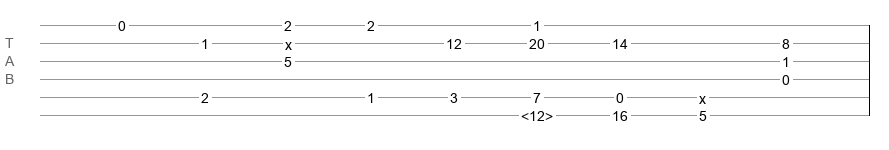0: (118, 18, 126, 28), (616, 90, 624, 100), (782, 72, 790, 82)
1: (201, 36, 209, 46), (367, 90, 375, 100), (533, 18, 541, 28), (782, 54, 790, 64)
12: (446, 36, 462, 46)
14: (612, 36, 628, 46)
16: (612, 108, 628, 118)
2: (201, 90, 209, 100), (284, 18, 292, 28), (367, 18, 375, 28)
20: (529, 36, 545, 46)
3: (450, 90, 458, 100)
5: (284, 54, 292, 64), (699, 108, 707, 118)
7: (533, 90, 541, 100)
8: (782, 36, 790, 46)
harmonic: (521, 108, 553, 118)
x: (285, 37, 292, 45), (699, 91, 706, 99)
